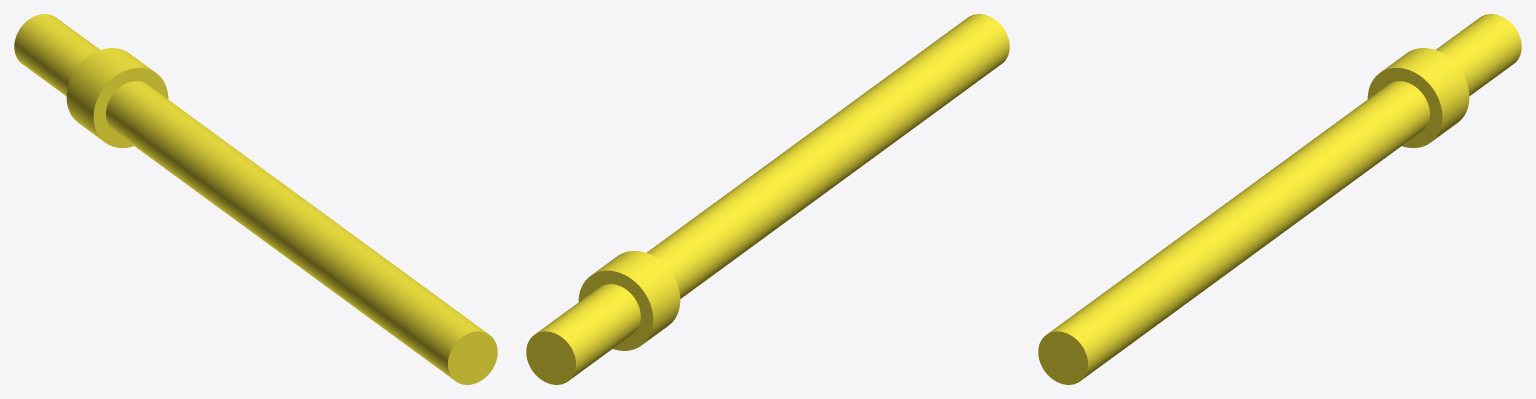
Rendered from LegoBullet.glb.
The picture shows the model from 3 angles, left to right: view 1: azimuth 30°, elevation 25°; view 2: azimuth 150°, elevation 25°; view 3: azimuth 330°, elevation 25°; orthographic projection.
Visible parts, largest first — view 1: LegoBullet; view 2: LegoBullet; view 3: LegoBullet.
Boxes of the visible parts, x1,y1,x2,y2 form: LegoBullet: (14, 14, 497, 384); LegoBullet: (526, 14, 1009, 384); LegoBullet: (1038, 14, 1521, 384).
Bounding box in the file's own units: 12 × 12 × 120.
